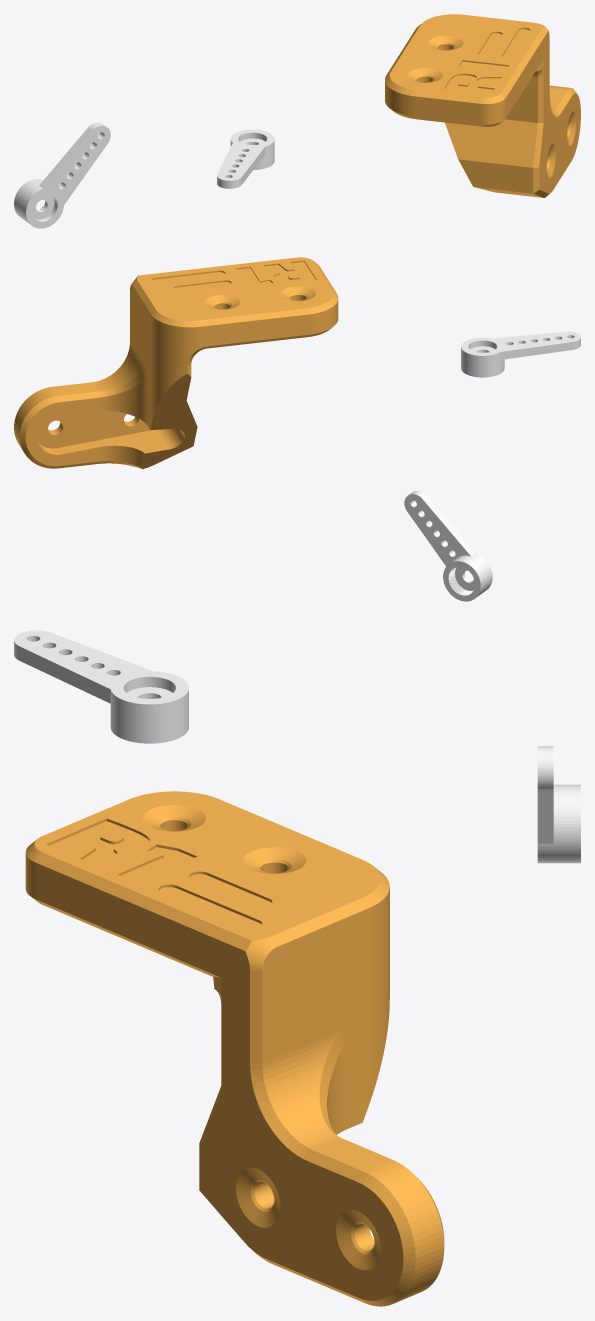
Rendered from right_front_leg.glb.
3 views of the same model, one above another, from view 1: azimuth 30°, elevation 25°; view 2: azimuth 150°, elevation 25°; view 3: azimuth 270°, elevation 25° (orthographic). The views are drawn at different scales.
Visible parts, largest first — view 1: femur_joint_r1, sg90_horn_8, sg90_horn_7; view 2: femur_joint_r1, sg90_horn_8, sg90_horn_7; view 3: femur_joint_r1, sg90_horn_7, sg90_horn_8.
Boxes of the visible parts, x1,y1,x2,y2 form: femur_joint_r1: (385, 14, 580, 197); sg90_horn_8: (14, 122, 110, 228); sg90_horn_7: (217, 129, 274, 188); femur_joint_r1: (14, 257, 338, 468); sg90_horn_8: (404, 491, 492, 601); sg90_horn_7: (461, 331, 580, 377); femur_joint_r1: (25, 791, 444, 1306); sg90_horn_7: (14, 630, 188, 743); sg90_horn_8: (537, 746, 580, 863).
Bounding box in the file's own units: 0.6573 × 0.2134 × 0.3486.
